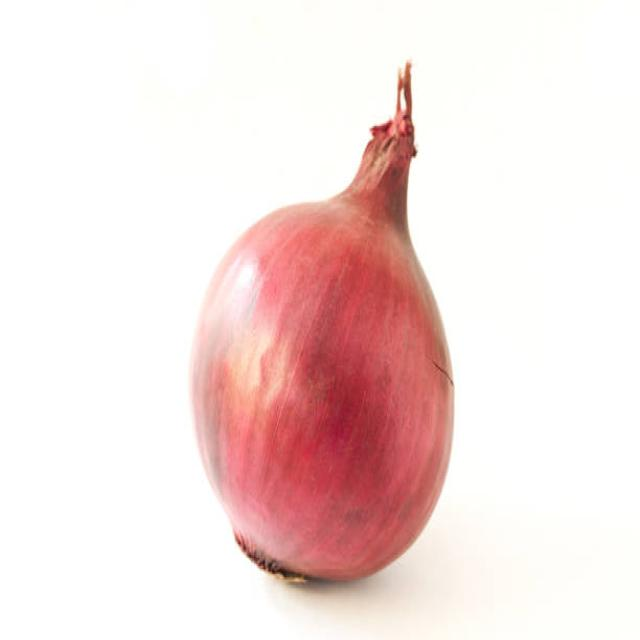onion: (183, 166, 460, 591)
